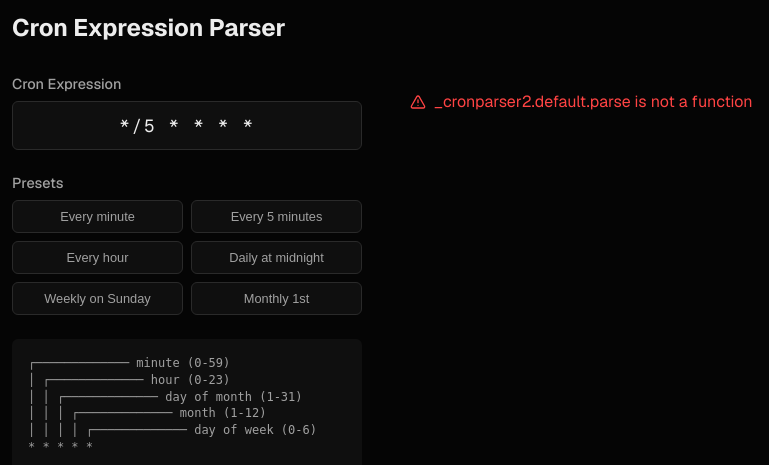
Test: CronTool › applies preset on click
Click the button "Every hour" at (98, 258), box [12, 241, 183, 274]
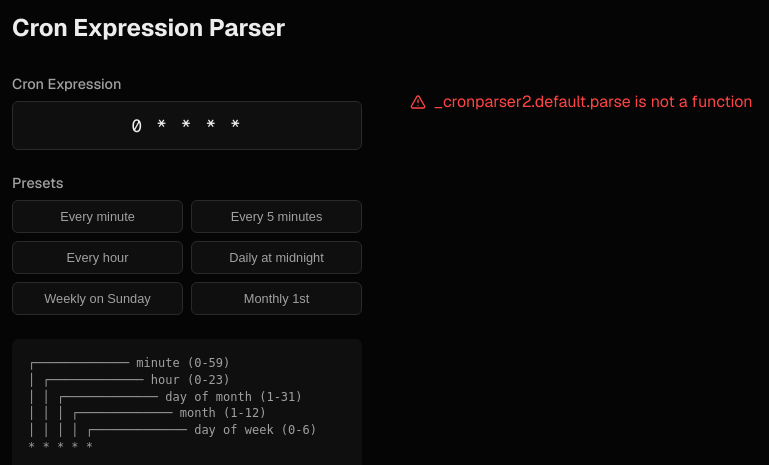
Check: the field showing "0 * * * *" is shown, box [12, 101, 362, 150]
